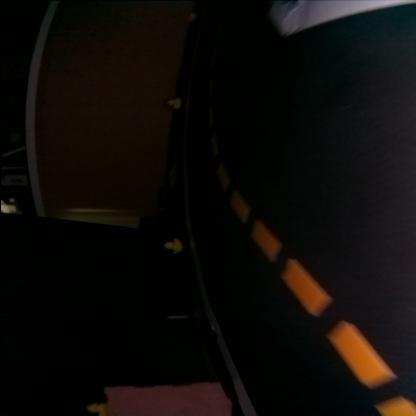Duckie: (83, 403, 105, 415), (162, 240, 180, 254), (166, 99, 180, 110), (182, 14, 194, 22)
